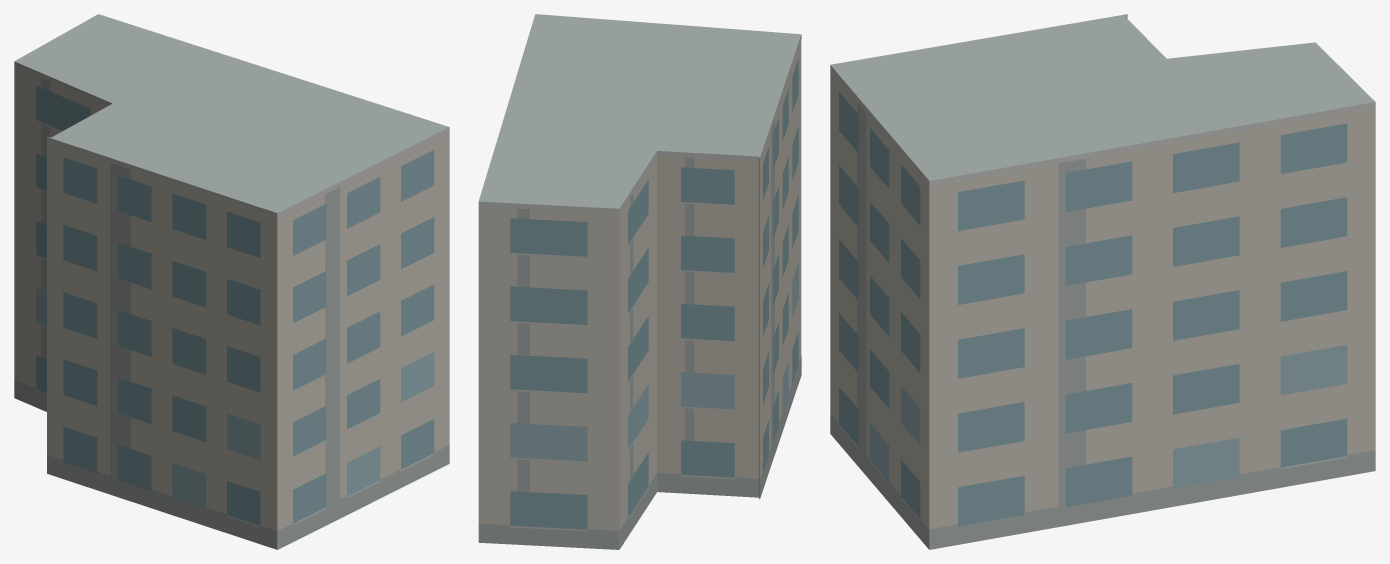
Rendered from survey-upis-32835180.glb.
3 views of the same model, side by side, from view 1: azimuth 30°, elevation 25°; view 2: azimuth 150°, elevation 25°; view 3: azimuth 270°, elevation 25° (orthographic). The views are drawn at different scales.
Visible parts, largest first — view 1: survey-upis-32835180.tmp; view 2: survey-upis-32835180.tmp; view 3: survey-upis-32835180.tmp.
Boxes of the visible parts, x1,y1,x2,y2 form: survey-upis-32835180.tmp: [14, 14, 449, 549]; survey-upis-32835180.tmp: [478, 14, 801, 549]; survey-upis-32835180.tmp: [830, 14, 1375, 549].
Bounding box in the file's own units: 15.92 × 16.4 × 21.98.
